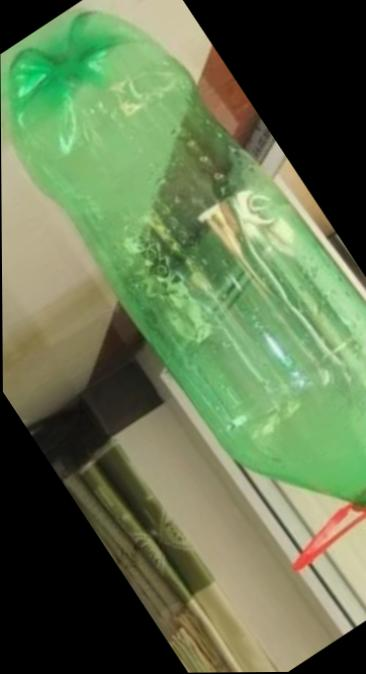plastic: (2, 0, 365, 671)
